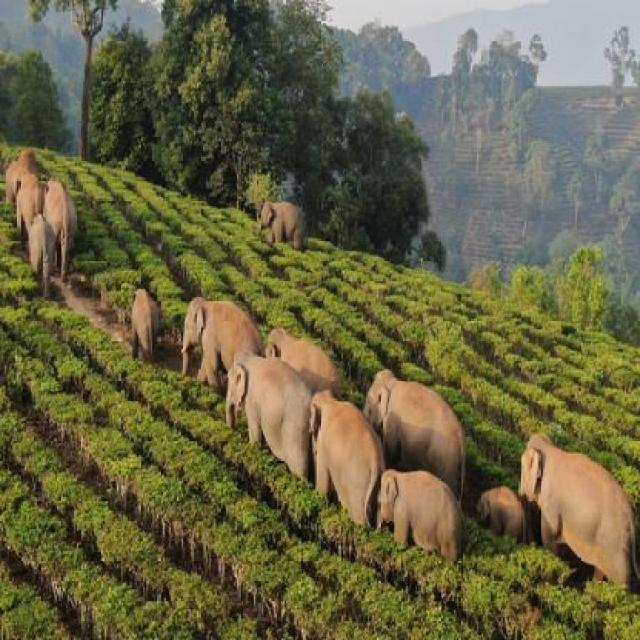elephant: (515, 415, 640, 640), (360, 349, 478, 493), (229, 339, 308, 483), (304, 380, 370, 538), (368, 473, 466, 553), (187, 288, 255, 387), (256, 326, 347, 391), (462, 487, 530, 559), (245, 188, 309, 244), (126, 279, 165, 358), (25, 212, 57, 303), (38, 187, 73, 259), (8, 169, 48, 223), (4, 131, 36, 187)
